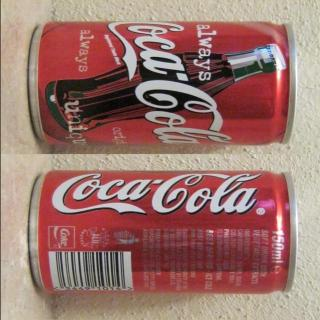Anorganik: (24, 15, 300, 152), (28, 166, 300, 300)
